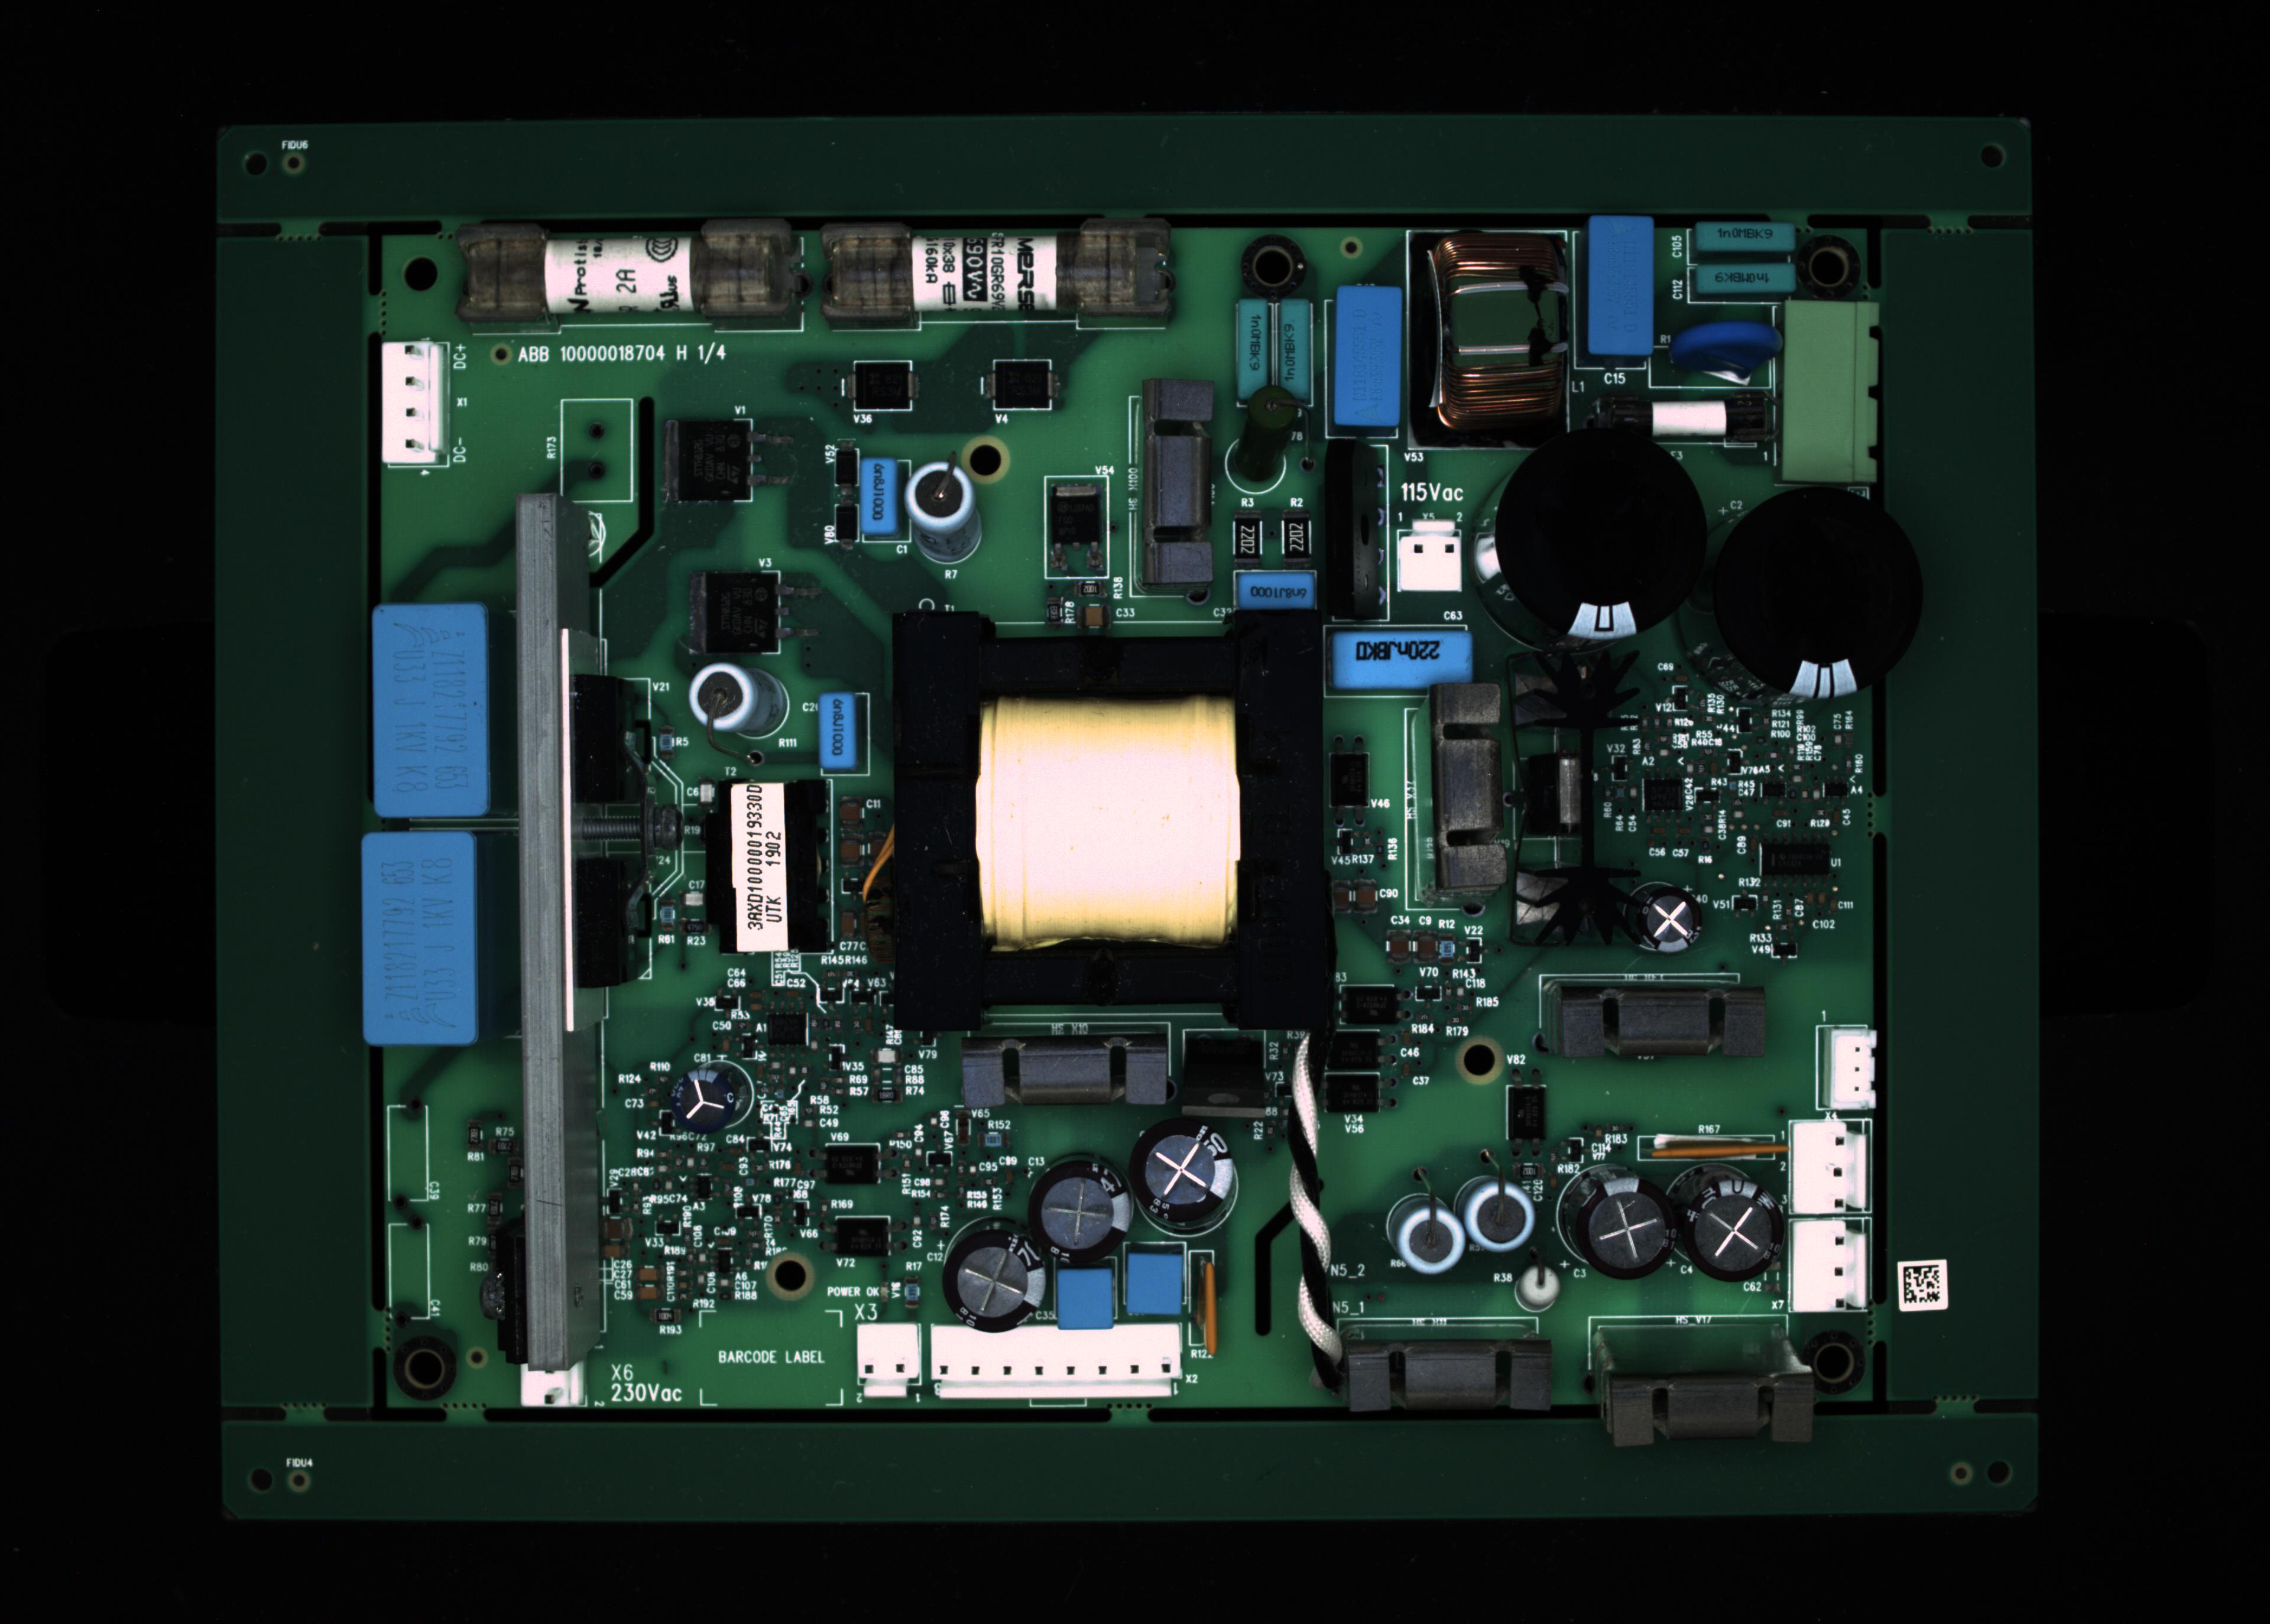10_p: (1648, 346, 1772, 394)
11_q: (1779, 301, 1874, 489)
12_r: (1591, 387, 1776, 455)
13_s: (380, 337, 447, 473)
15_e: (856, 455, 900, 534)
16_k: (904, 455, 995, 566)
17_u: (1139, 378, 1219, 601)
18_v: (1238, 569, 1317, 608)
19_w: (1338, 626, 1475, 684)
1_a: (455, 216, 807, 336)
20_f: (1393, 517, 1470, 599)
21_g: (1475, 427, 1709, 670)
22_g: (1720, 482, 1929, 701)
23_h: (369, 603, 485, 814)
24_h: (360, 828, 477, 1039)
25_f: (520, 1369, 586, 1411)
26_f: (851, 1323, 927, 1403)
27_x: (930, 1323, 1185, 1404)
28_i: (1129, 1120, 1241, 1239)
29_i: (1027, 1153, 1134, 1274)
2_a: (819, 216, 1175, 330)
30_i: (948, 1227, 1048, 1330)
31_j: (1059, 1264, 1122, 1327)
32_j: (1127, 1250, 1185, 1315)
33_e: (814, 692, 856, 770)
34_k: (1389, 1193, 1465, 1283)
35_k: (1456, 1178, 1542, 1271)
36_i: (1584, 1179, 1670, 1283)
37_i: (1663, 1160, 1786, 1290)
38_l: (1331, 1338, 1558, 1424)
39_l: (1582, 1369, 1818, 1448)
3_b: (1238, 295, 1270, 402)
40_l: (1539, 977, 1771, 1069)
41_y: (1407, 678, 1505, 919)
42_z: (1818, 1028, 1878, 1114)
43_m: (1792, 1120, 1874, 1216)
44_m: (1788, 1225, 1876, 1311)
45_i: (679, 1065, 756, 1142)
46_n: (1338, 982, 1412, 1028)
47_n: (811, 1142, 899, 1192)
48_n: (818, 1214, 911, 1265)
49_aa: (761, 1011, 814, 1056)
4_b: (1278, 299, 1313, 402)
50_n: (1321, 1030, 1391, 1070)
51_n: (1308, 1070, 1396, 1120)
52_ab: (1329, 740, 1377, 831)
53_ac: (1656, 1130, 1790, 1165)
54_ad: (1194, 1253, 1222, 1364)
55_l: (957, 1021, 1175, 1118)
56_ae: (1176, 1025, 1282, 1132)
57_af: (1509, 647, 1635, 951)
58_i: (1630, 884, 1706, 958)
59_o: (981, 359, 1067, 417)
5_c: (1335, 286, 1400, 424)
60_o: (840, 357, 923, 420)
6_6: (1405, 232, 1572, 452)
7_c: (1590, 214, 1656, 353)
8_d: (1693, 220, 1799, 253)
9_d: (1700, 262, 1793, 297)
